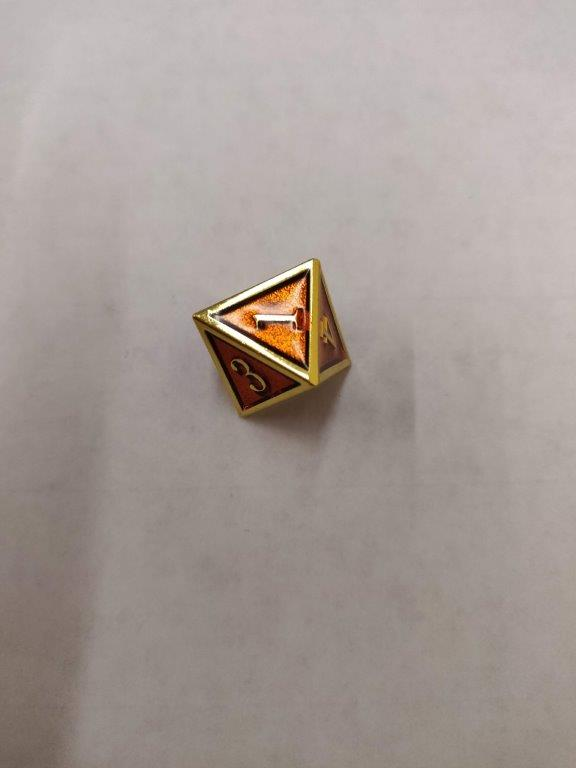d8-1: (191, 257, 354, 423)
